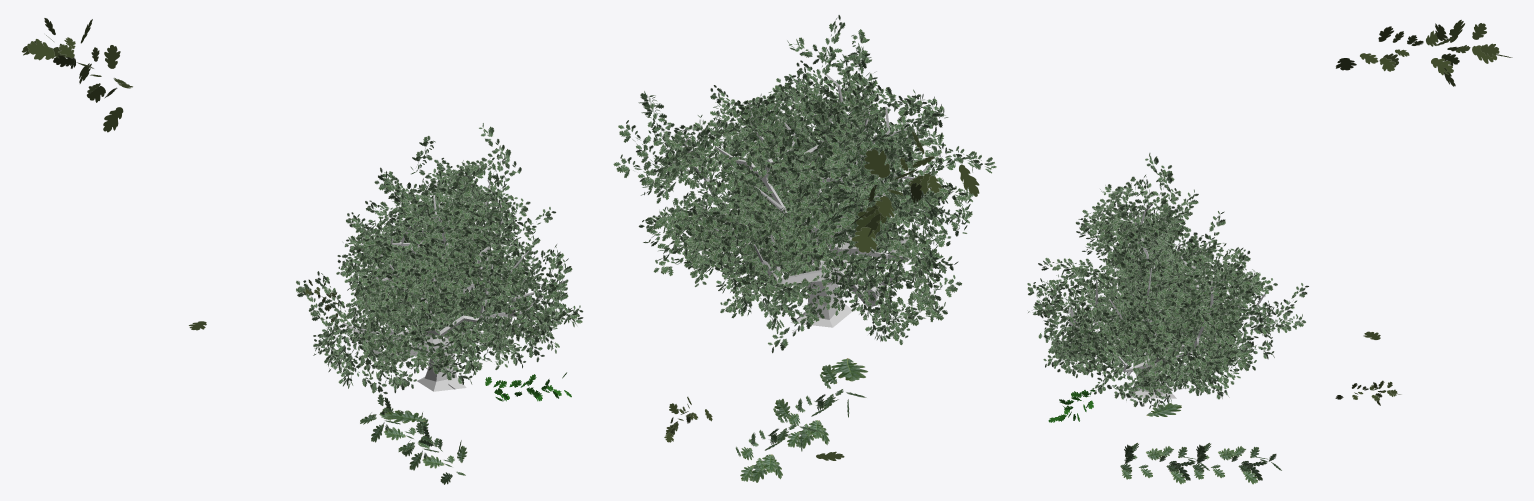
File: hrast_lowp_nove_veje_foto.gltf
The picture shows the model from 3 angles, left to right: view 1: azimuth 30°, elevation 25°; view 2: azimuth 150°, elevation 25°; view 3: azimuth 270°, elevation 25°; orthographic projection. The views are drawn at different scales.
Visible parts, largest first — view 1: og_deblo_veje, dob_list_real.017, VEJA; view 2: dob_list_real.017 (×53), og_deblo_veje, bitmap (×2), dob_list_real, bitmap.024; view 3: dob_list_real.017, og_deblo_veje.
Part boxes in pixels (left/top/right/bottom): og_deblo_veje: left=343, top=180, right=544, bottom=391; dob_list_real.017: left=360, top=394, right=467, bottom=484; VEJA: left=485, top=372, right=571, bottom=401; dob_list_real.017 (×53): left=613, top=15, right=996, bottom=482; og_deblo_veje: left=684, top=74, right=930, bottom=327; bitmap (×2): left=851, top=149, right=890, bottom=253; dob_list_real: left=831, top=358, right=868, bottom=381; bitmap.024: left=664, top=396, right=712, bottom=442; dob_list_real.017: left=1120, top=442, right=1281, bottom=484; og_deblo_veje: left=1068, top=203, right=1265, bottom=398.
Bounding box in the file's own units: 26.12 × 26.68 × 31.65.
